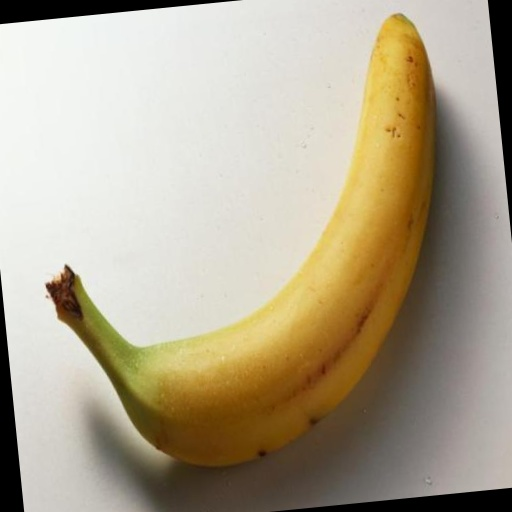fruit: (13, 151, 96, 451)
